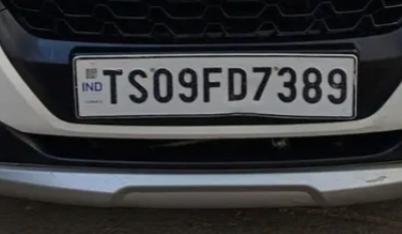0: (149, 64, 175, 107)
3: (274, 63, 298, 108)
7: (250, 61, 273, 108)
8: (302, 63, 323, 106)
9: (325, 63, 350, 109), (178, 63, 200, 106)
D: (225, 63, 250, 107)
F: (200, 63, 224, 109)
S: (126, 64, 150, 107)
T: (99, 63, 124, 108)
